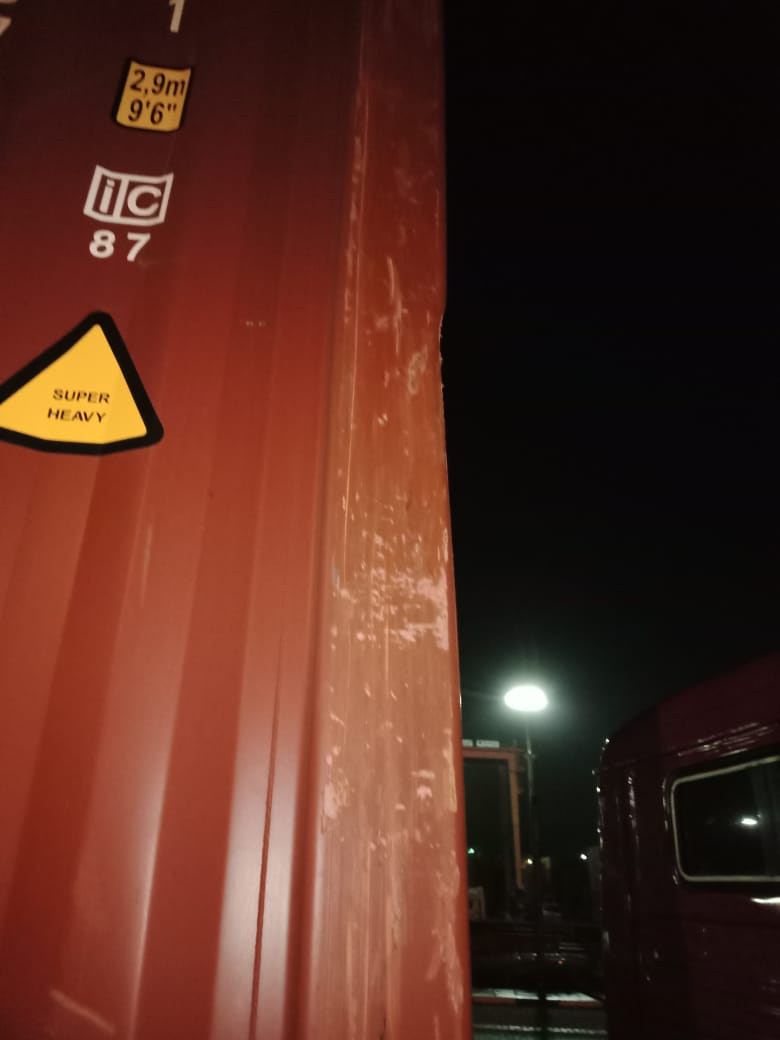moderate: (344, 221, 463, 861)
